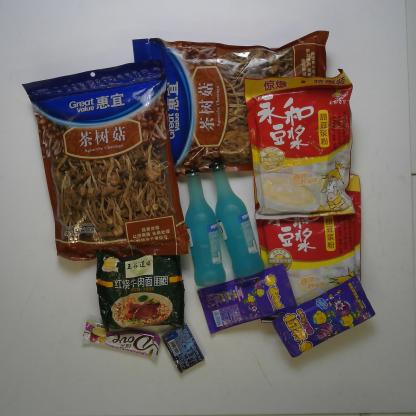Alcohol: (208, 160, 265, 280), (184, 167, 227, 288)
Candy: (272, 272, 376, 358), (197, 262, 298, 336)
Chocolate: (81, 318, 164, 363)
Dried Food: (20, 56, 190, 263), (132, 29, 330, 179)
Gum: (160, 322, 206, 374)
Instant Drink: (244, 67, 357, 222), (252, 173, 363, 324)
Instant Noodles: (95, 249, 186, 334)
